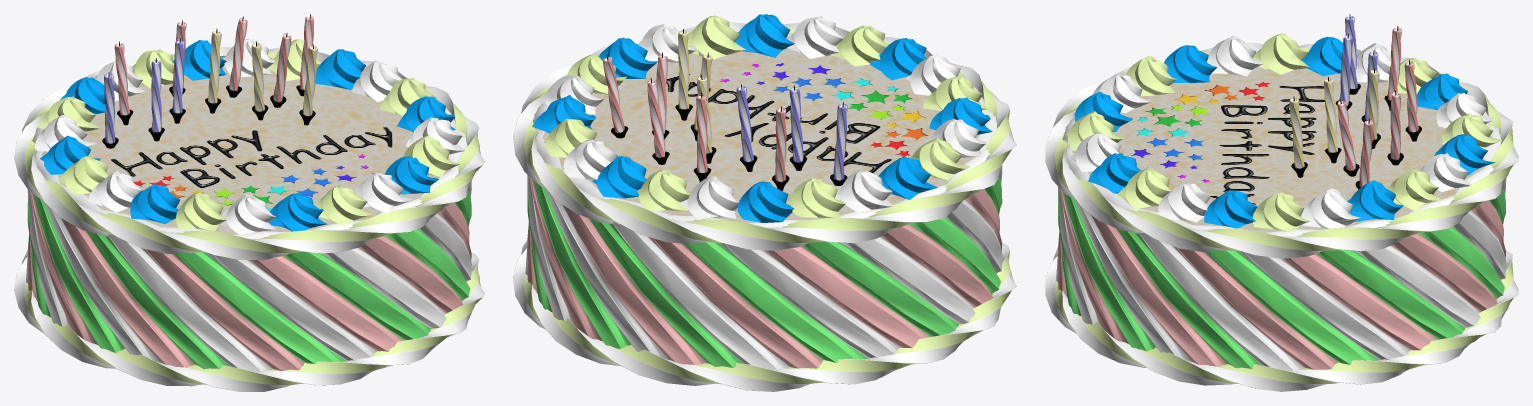
Rendered from cake.gltf.
3 renders of one model, left to right at view 1: azimuth 30°, elevation 25°; view 2: azimuth 150°, elevation 25°; view 3: azimuth 270°, elevation 25°, orthographic. The views are drawn at different scales.
Visible parts, largest first — view 1: 10868_birthday-cake_v3; view 2: 10868_birthday-cake_v3; view 3: 10868_birthday-cake_v3.
Boxes of the visible parts, <box> form: 10868_birthday-cake_v3: <box>14,14,484,391</box>; 10868_birthday-cake_v3: <box>513,14,1016,391</box>; 10868_birthday-cake_v3: <box>1045,14,1518,391</box>.
Size of the model in its own units: 6.01 by 3.28 by 6.
Materials: 11 (1 with a texture image).
